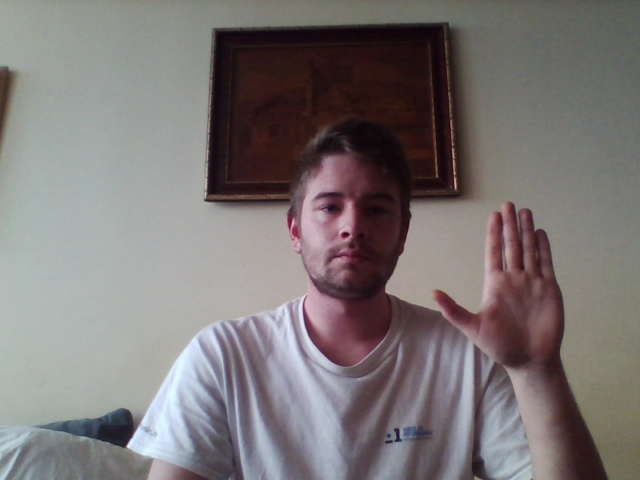pozdrav: (428, 199, 572, 367)
